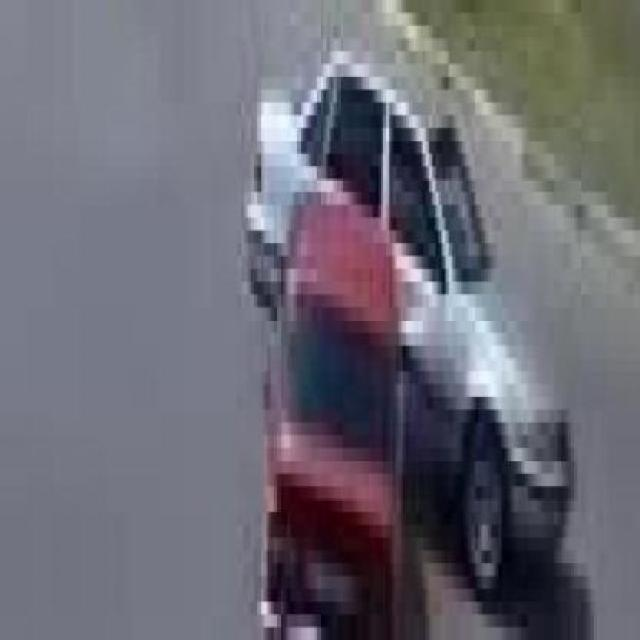accident: (214, 34, 577, 640)
